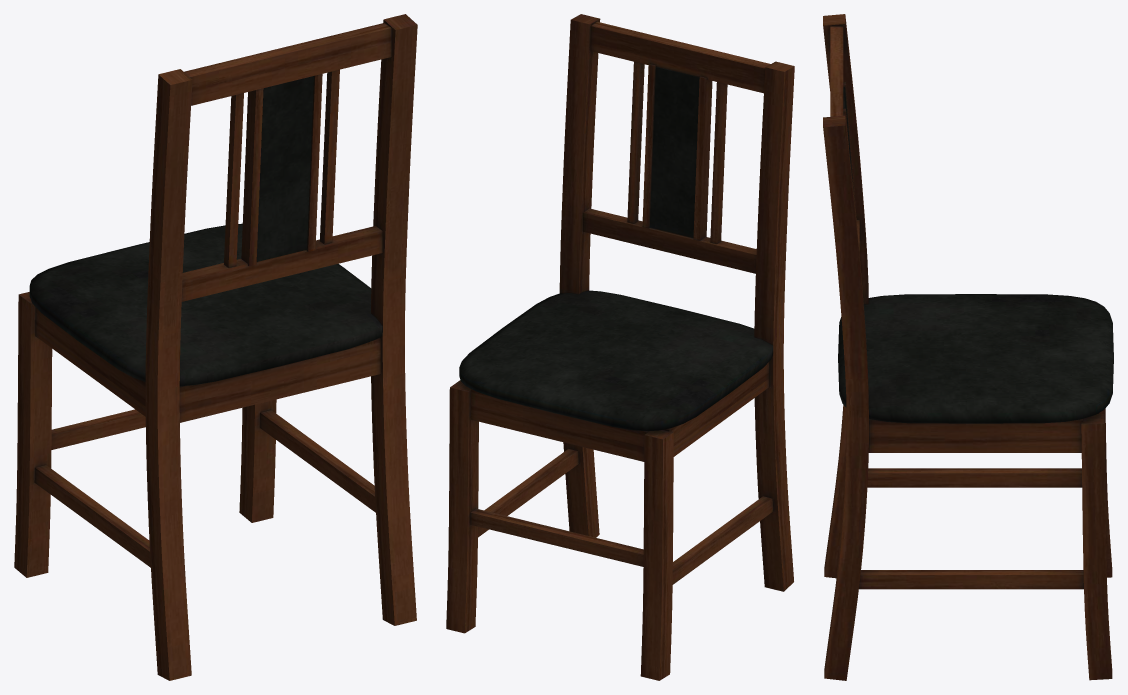
File: chair_leather_web.glb
The picture shows the model from 3 angles, left to right: view 1: azimuth 30°, elevation 25°; view 2: azimuth 150°, elevation 25°; view 3: azimuth 270°, elevation 25°; orthographic projection. The views are drawn at different scales.
Parts seen in each view (by area): view 1: ChairLeather_Mesh; view 2: ChairLeather_Mesh; view 3: ChairLeather_Mesh.
Boxes of the visible parts, x1,y1,x2,y2 form: ChairLeather_Mesh: [14, 14, 417, 680]; ChairLeather_Mesh: [446, 14, 794, 680]; ChairLeather_Mesh: [823, 14, 1113, 680].
Size of the model in its own units: 0.43 by 0.9337 by 0.4429.
1 material, 1 textured.
